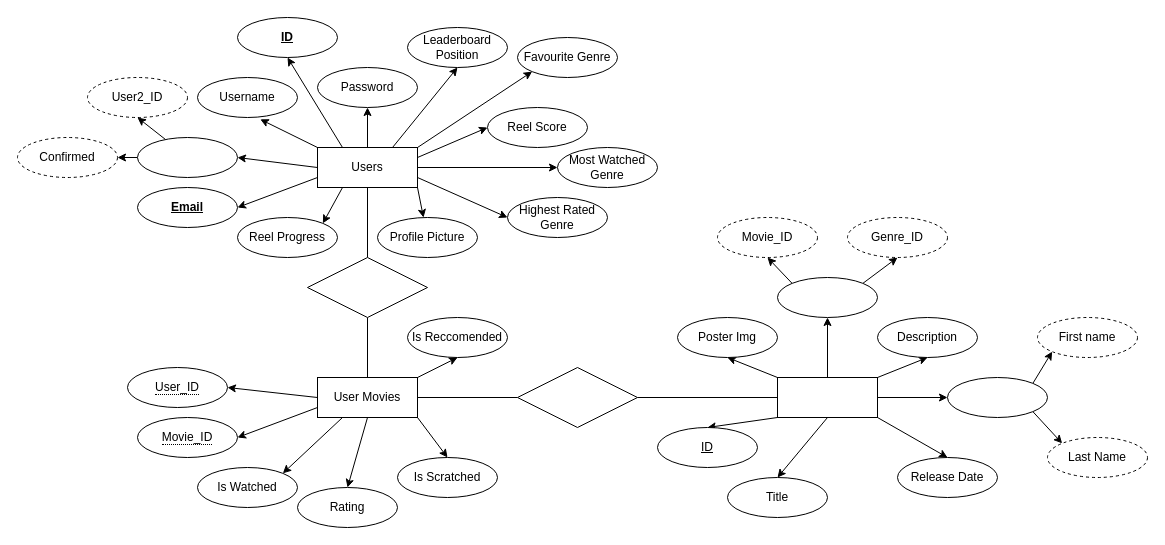
The diagram is 1165 pixels wide and 545 high, and some of its shapes have lost their labels. The shapes that lost their labels are listed below. From the top down, each one's centre as x and y in pixels, then its label:
[187,157]: Friendship
[367,287]: Lists
[827,297]: Genres
[577,397]: References
[827,397]: Movies
[997,397]: Directors
